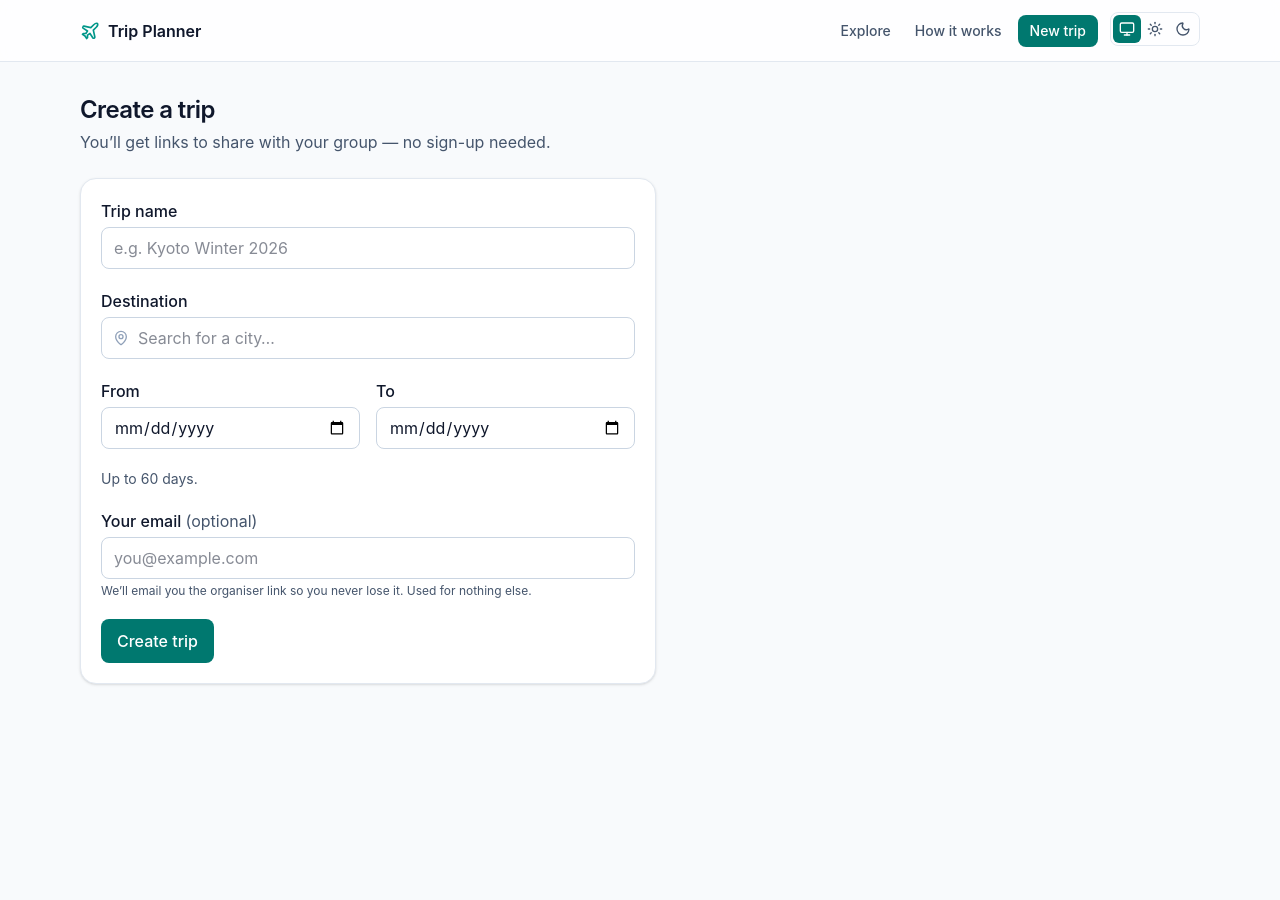
Scenario: CreateTripPage (F1) › rejects an invalid email (AC12.2)
Step 1. Type "nope" into the field labelled "Your email (optional)" → coordinates (368, 558), box [101,537,635,579]
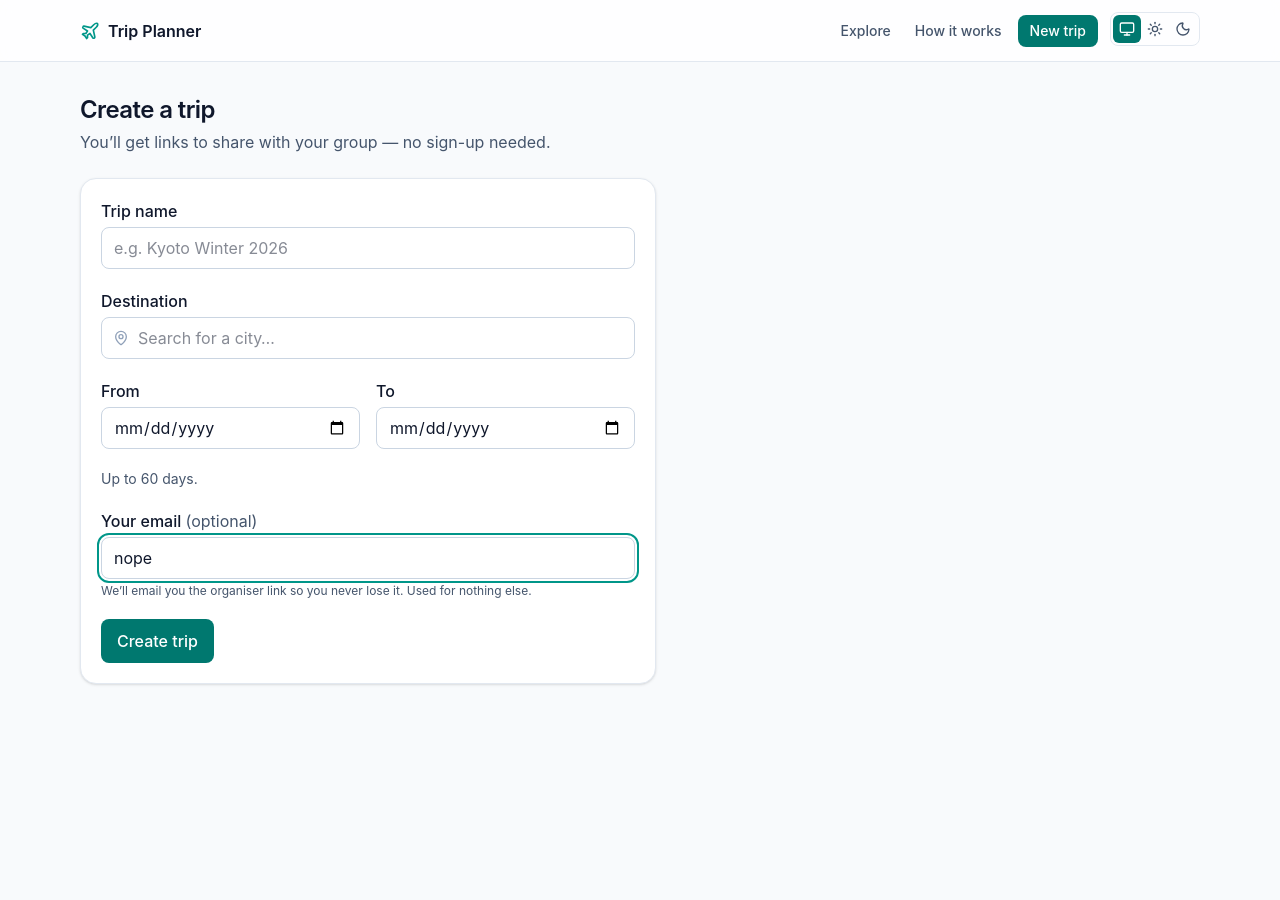
Step 2. Leave the field labelled "Your email (optional)", box [101,537,635,579]
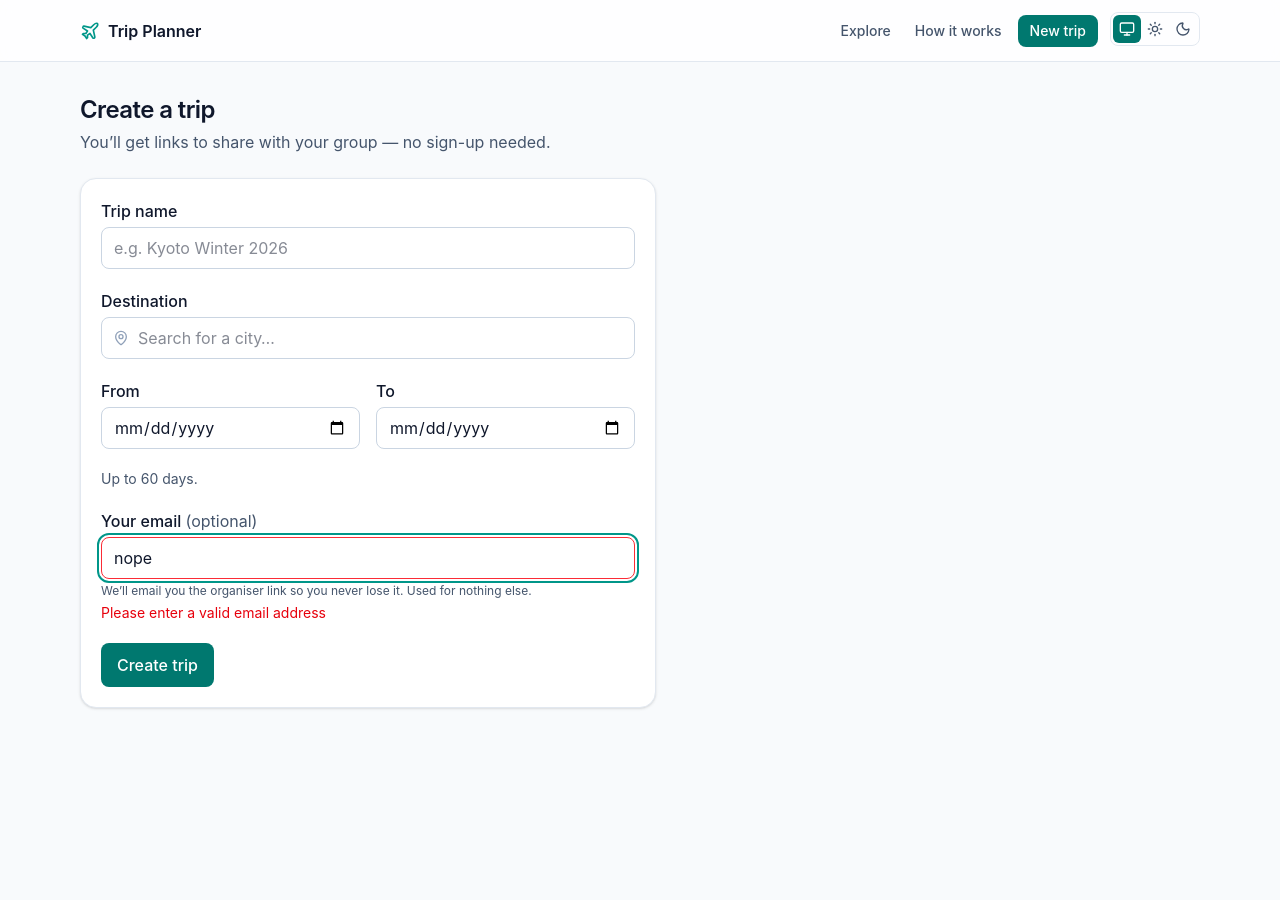
Check: the text "Please enter a valid email address" is shown, box [101,604,326,621]
